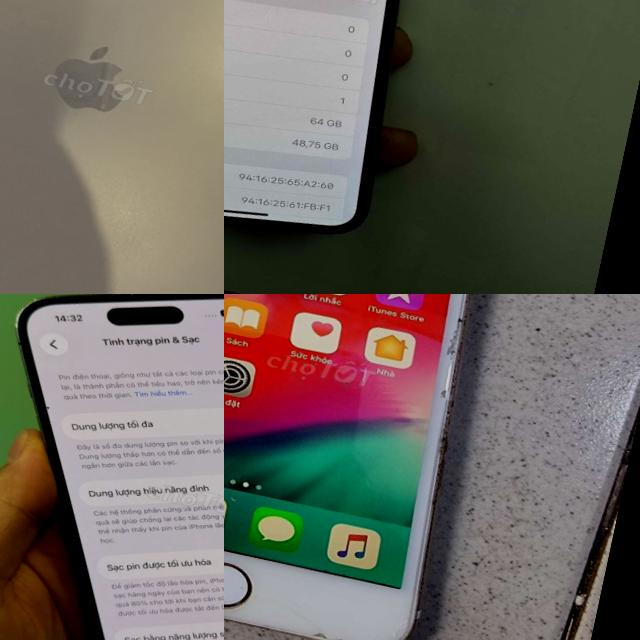gen_12_13: (0, 0, 224, 294)
gen_15: (0, 294, 224, 640)
gen_6: (224, 294, 469, 640)
gen_x_xs: (224, 0, 466, 269)
